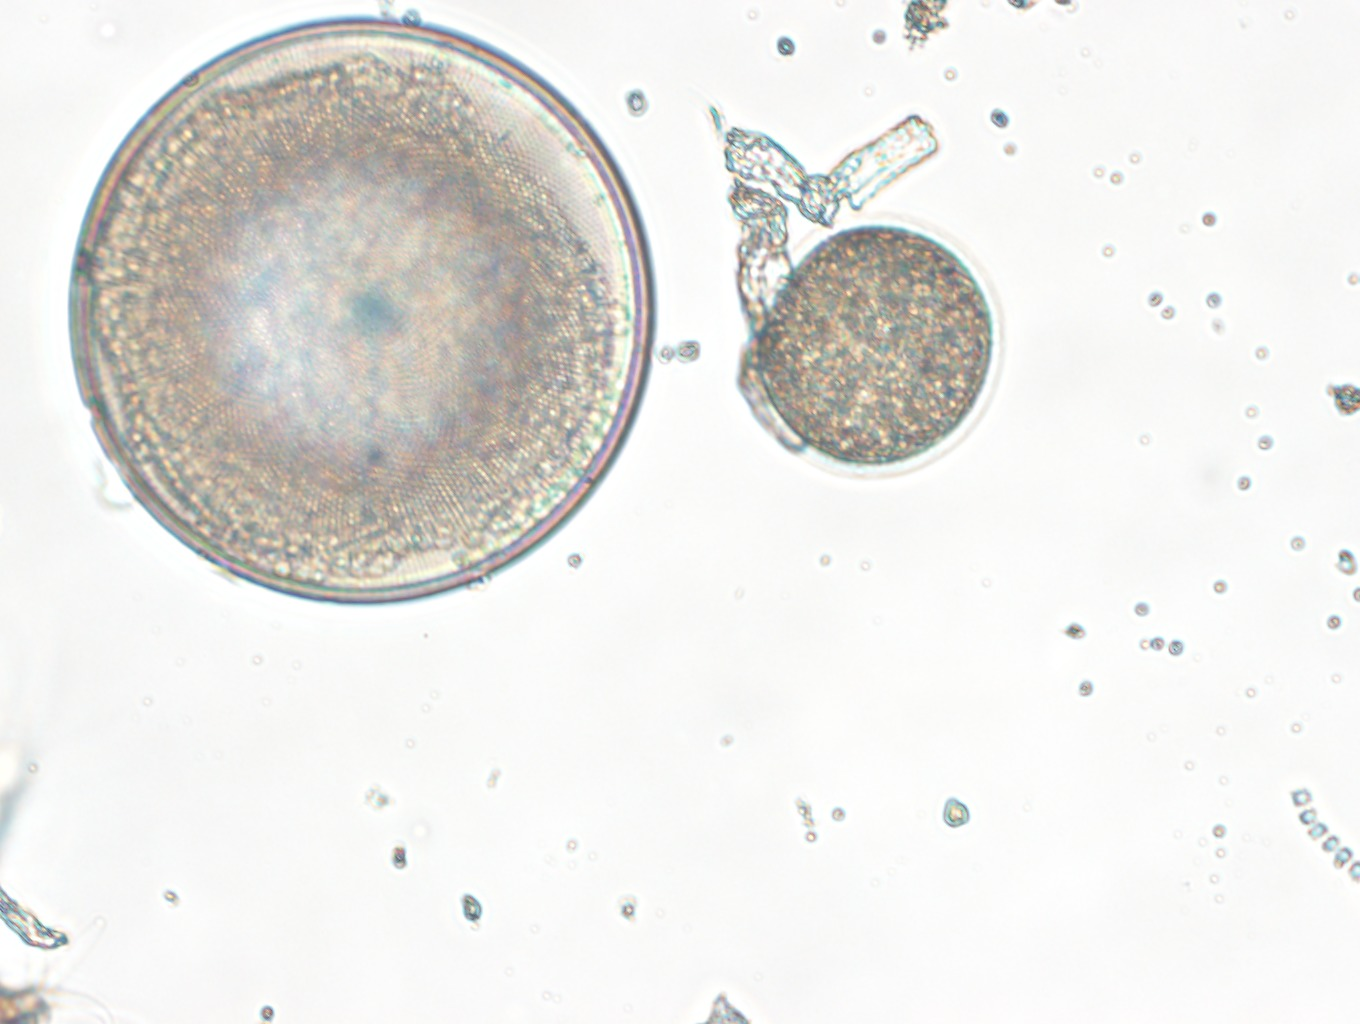coscinodiscus: (63, 16, 659, 606), (751, 217, 1005, 482)
